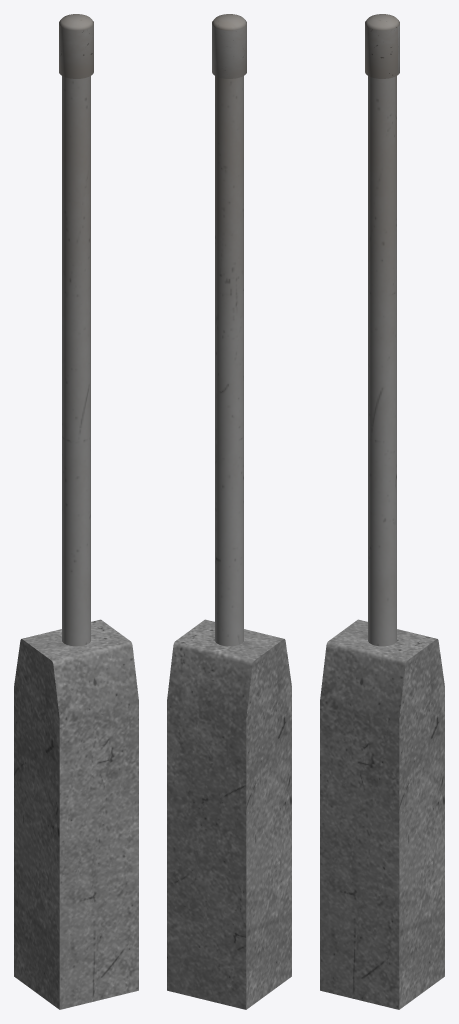
Rendered from chain_singlepost_wall.fbx.
3 views of the same model, side by side, from view 1: azimuth 30°, elevation 25°; view 2: azimuth 150°, elevation 25°; view 3: azimuth 330°, elevation 25° (orthographic).
Visible parts, largest first — view 1: chain_singlepost_wall; view 2: chain_singlepost_wall; view 3: chain_singlepost_wall.
Boxes of the visible parts, bbox=[...] form: chain_singlepost_wall: bbox=[14, 14, 138, 1009]; chain_singlepost_wall: bbox=[167, 14, 291, 1009]; chain_singlepost_wall: bbox=[320, 14, 444, 1009].
Bounding box in the file's own units: 0.2 × 2.33 × 0.2.
1 material, 1 textured.
